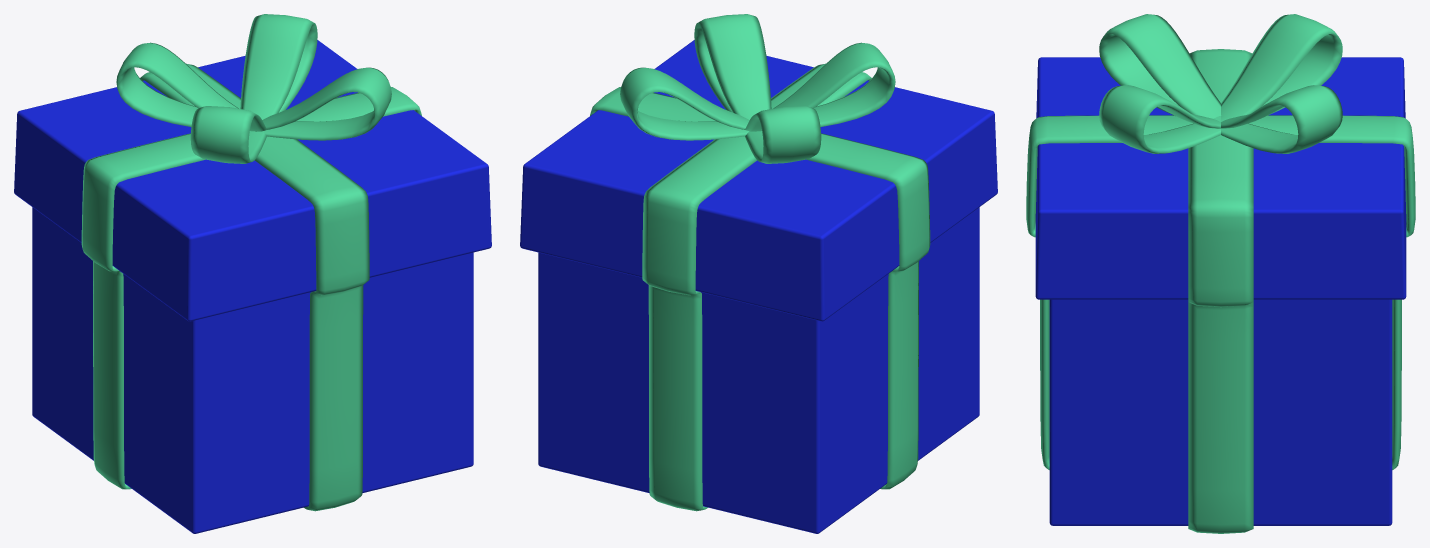
Rendered from present.gltf.
The picture shows the model from 3 angles, left to right: view 1: azimuth 30°, elevation 25°; view 2: azimuth 150°, elevation 25°; view 3: azimuth 270°, elevation 25°; orthographic projection. The views are drawn at different scales.
Parts seen in each view (by area): view 1: Box, Box-Ribbon, TopBox-Ribbon; view 2: Box, Box-Ribbon, TopBox-Ribbon; view 3: Box, Box-Ribbon, TopBox-Ribbon.
Part boxes in pixels (x1,y1,x2,y2): Box: (14,40,491,533); Box-Ribbon: (81,63,421,511); TopBox-Ribbon: (116,14,391,163); Box: (520,40,997,533); Box-Ribbon: (590,63,930,511); TopBox-Ribbon: (620,14,895,163); Box: (1035,57,1406,525); Box-Ribbon: (1026,49,1415,533); TopBox-Ribbon: (1099,14,1342,153).
Size of the model in its own units: 2.27 by 2.62 by 2.27.
